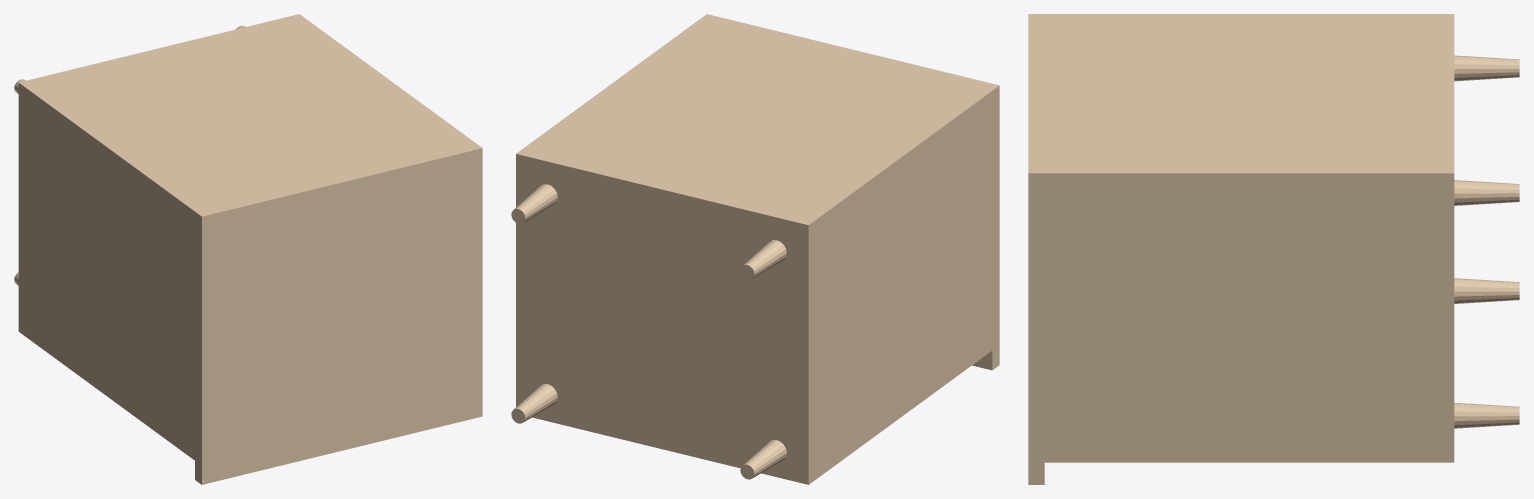
Rendered from Carcass.glb.
3 renders of one model, left to right at view 1: azimuth 30°, elevation 25°; view 2: azimuth 150°, elevation 25°; view 3: azimuth 270°, elevation 25°, orthographic. The views are drawn at different scales.
Visible parts, largest first — view 1: Carcass.001; view 2: Carcass.001; view 3: Carcass.001.
Boxes of the visible parts, x1,y1,x2,y2 form: Carcass.001: [14, 14, 482, 484]; Carcass.001: [511, 14, 999, 484]; Carcass.001: [1028, 14, 1519, 484].
Bounding box in the file's own units: 0.46 × 0.42 × 0.6.
